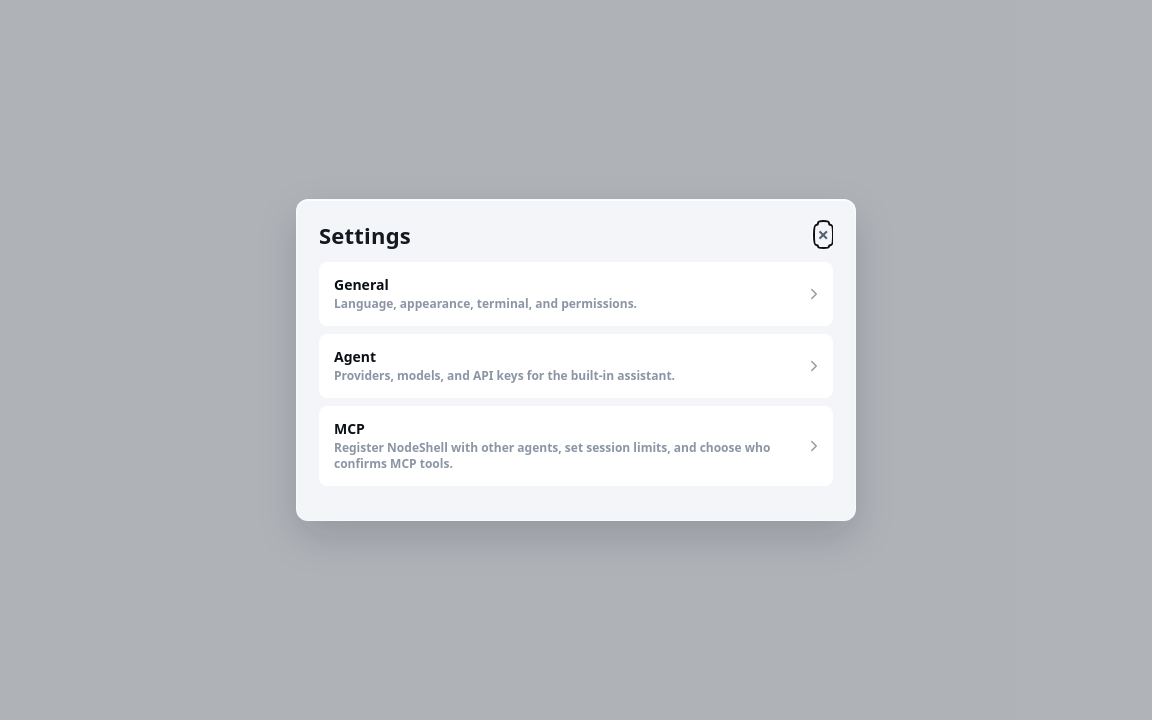
Scenario: SettingsModal MCP registration › shows the config path on each one-click target
Click the button "MCP" at point(576, 446), box [319,406,833,486]
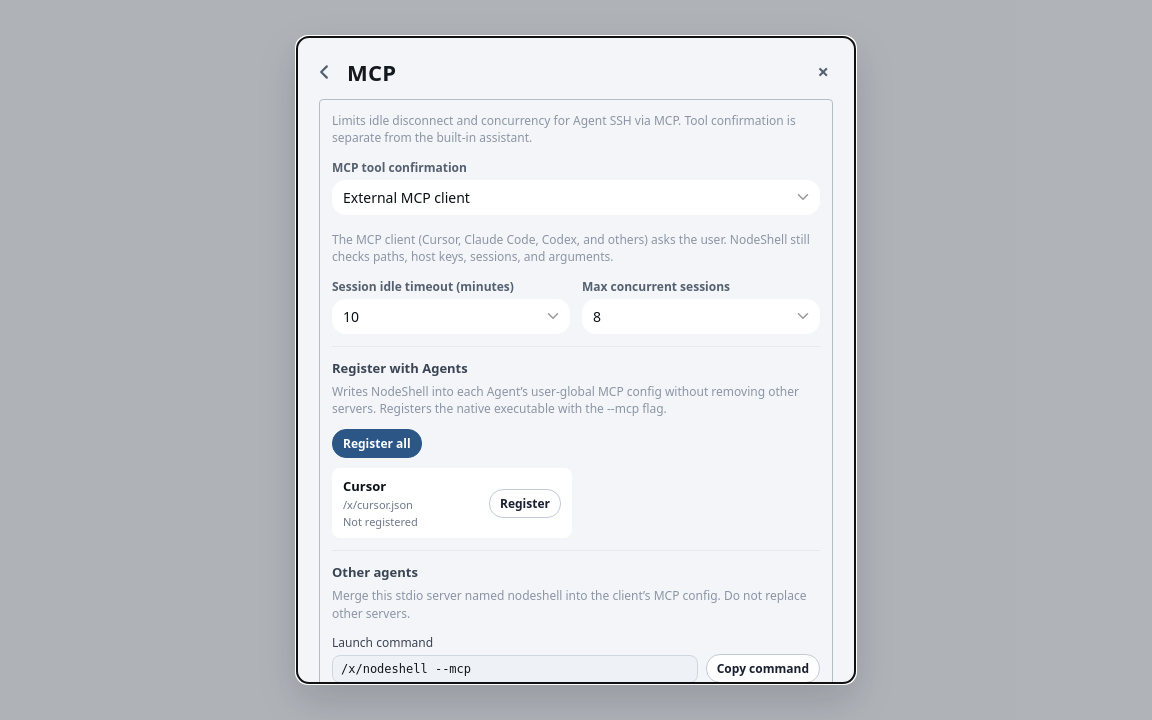
Expected: the text "/x/cursor.json" is shown, [343,497,418,512]
